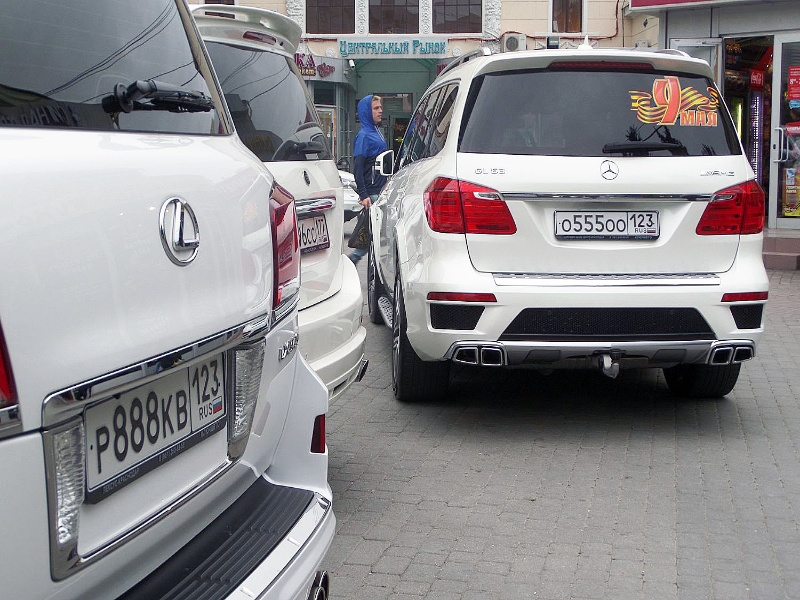car: (1, 1, 338, 600), (366, 51, 769, 403), (187, 4, 365, 402)
person: (352, 95, 388, 269)
plate: (88, 353, 225, 485), (556, 211, 657, 233), (296, 216, 328, 247)
